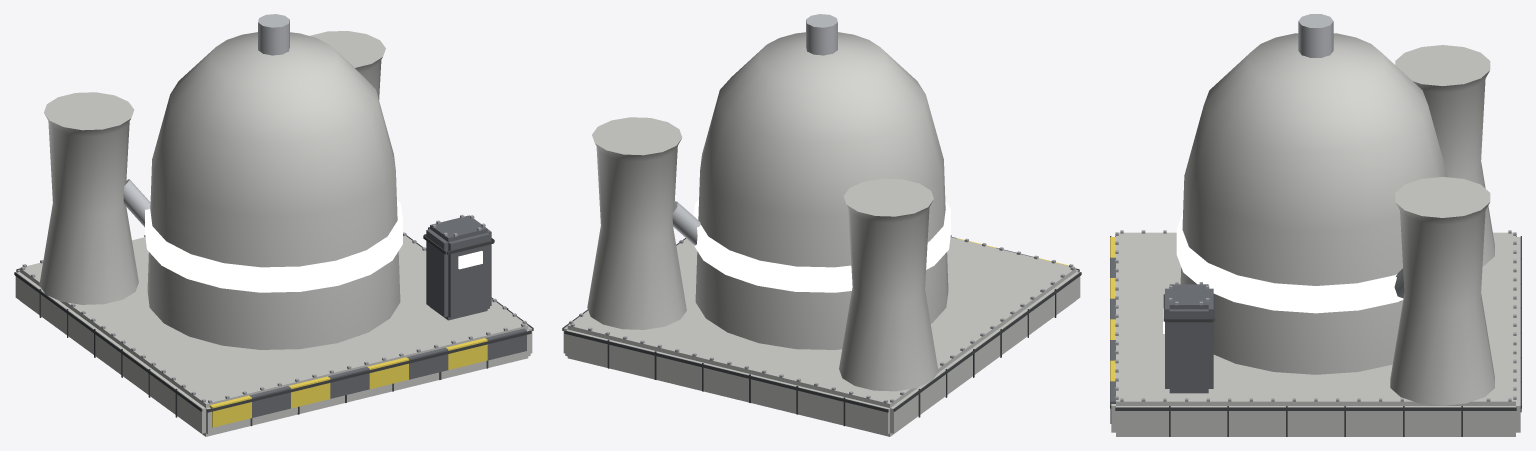
Rendered from nuclear_reactor.fbx.
3 views of the same model, side by side, from view 1: azimuth 30°, elevation 25°; view 2: azimuth 150°, elevation 25°; view 3: azimuth 270°, elevation 25° (orthographic). The views are drawn at different scales.
Parts seen in each view (by area): view 1: nuclear_reactor; view 2: nuclear_reactor; view 3: nuclear_reactor.
Part boxes in pixels (x1=…): nuclear_reactor: x1=14, y1=14, x2=533, y2=436; nuclear_reactor: x1=562, y1=14, x2=1081, y2=436; nuclear_reactor: x1=1110, y1=14, x2=1521, y2=436.
Bounding box in the file's own units: 4.3 × 3.75 × 4.22.
